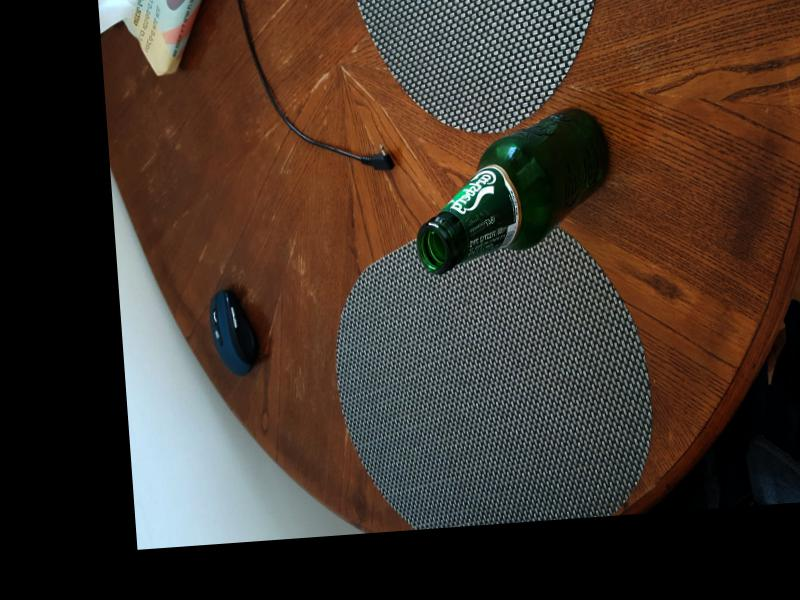Beer: (408, 98, 620, 277)
